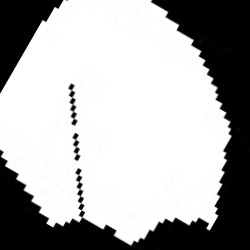spot: (3, 1, 230, 242)
